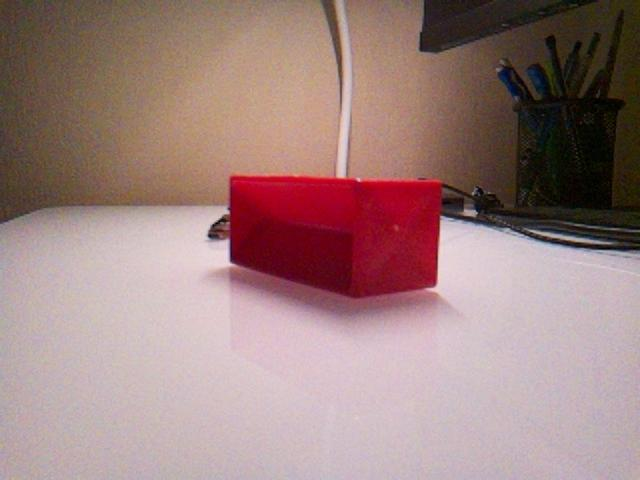red: (227, 172, 444, 299)
